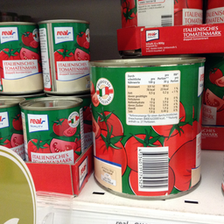tomato_sauce: (89, 55, 205, 202), (19, 97, 83, 165), (37, 18, 90, 95), (1, 21, 42, 93)
